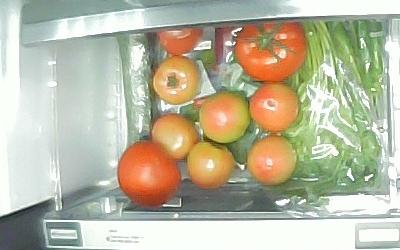tomato: (118, 140, 182, 208), (235, 25, 308, 83), (248, 135, 298, 188), (249, 82, 300, 132), (199, 91, 249, 142), (186, 141, 235, 190), (152, 56, 201, 104), (153, 113, 198, 161), (157, 28, 204, 58)
